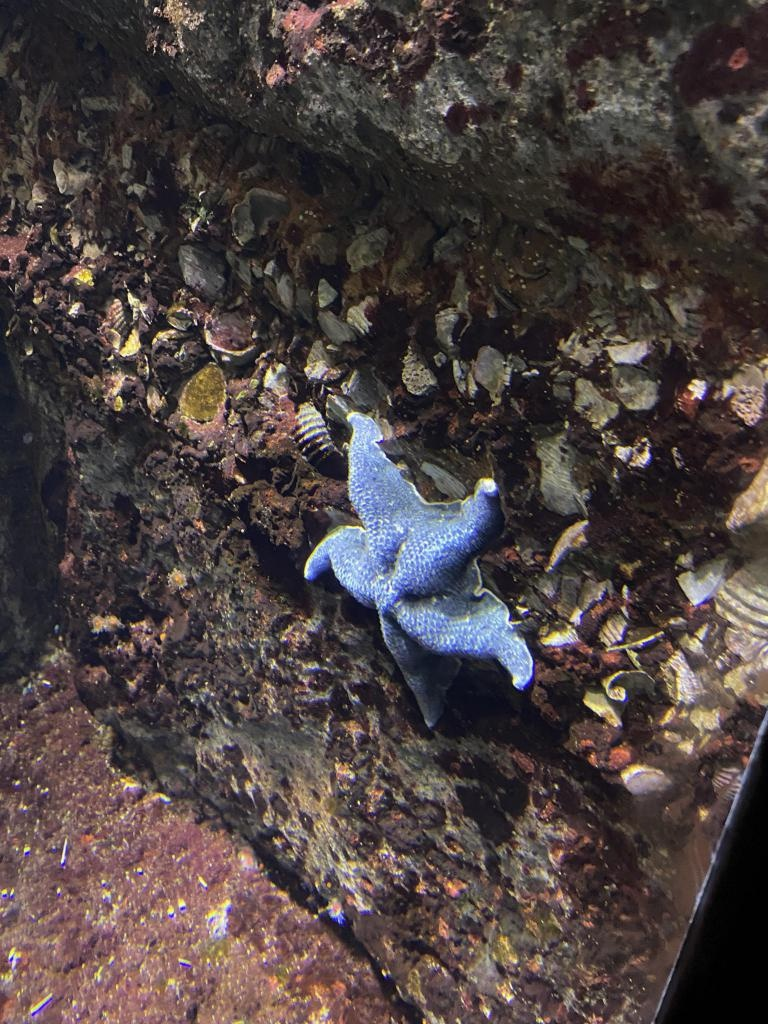starfish: (302, 410, 534, 730)
